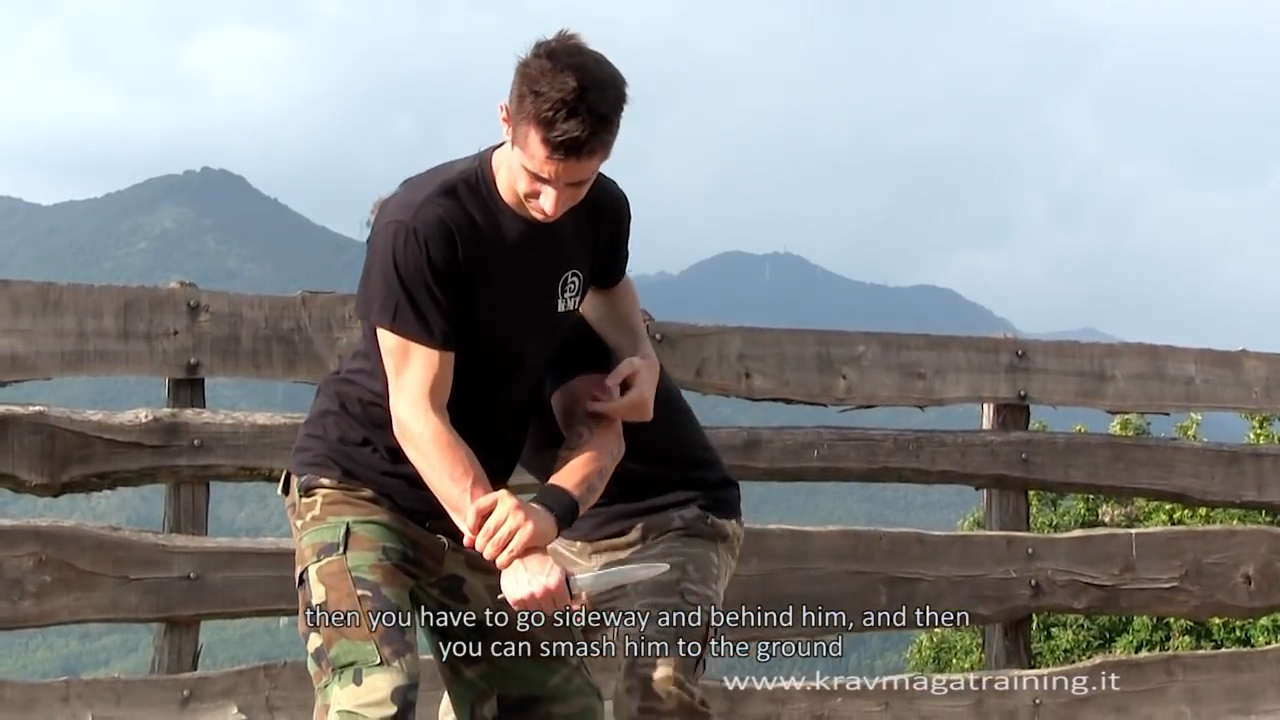knife: (493, 549, 687, 618)
